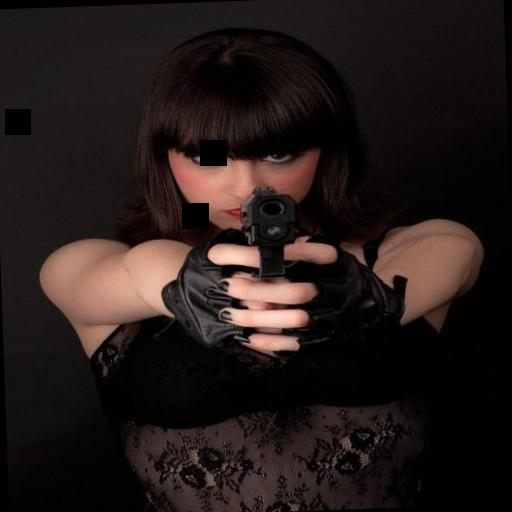Handgun: (232, 178, 304, 294)
